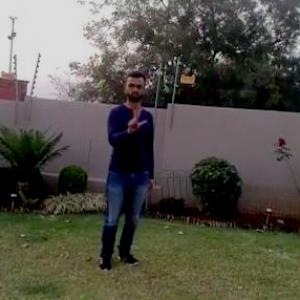land_hand: (124, 104, 149, 134)
